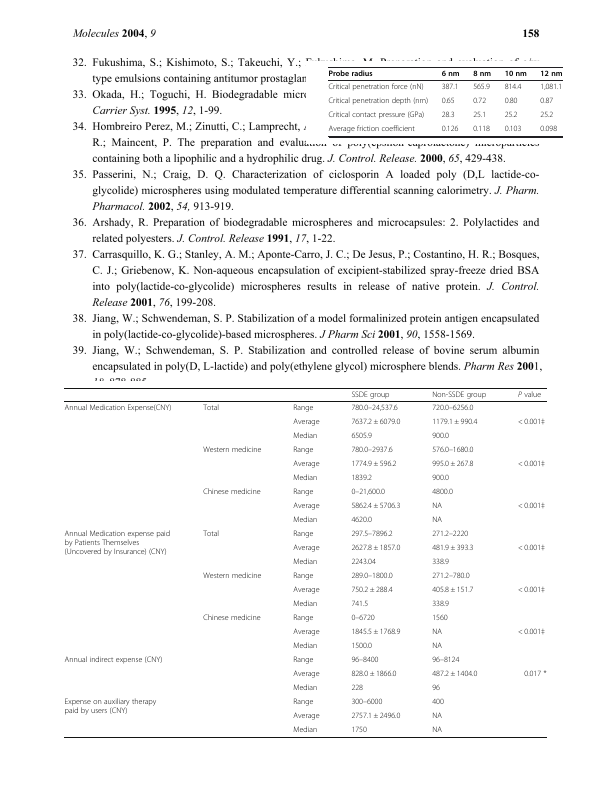borderless: (63, 386, 547, 737), (327, 66, 562, 136)
cell: (64, 529, 171, 557), (64, 697, 157, 716), (64, 403, 172, 413), (64, 655, 163, 665), (328, 97, 429, 106), (328, 111, 425, 120), (328, 83, 424, 92), (328, 125, 416, 134), (202, 445, 262, 455), (202, 571, 262, 581), (202, 487, 261, 497), (202, 613, 261, 623), (350, 417, 401, 427), (350, 501, 401, 511), (350, 543, 401, 553), (350, 627, 401, 637), (350, 711, 401, 721), (431, 390, 487, 399), (350, 403, 399, 413), (431, 417, 478, 427), (350, 459, 397, 469), (350, 669, 397, 679), (431, 669, 478, 679), (350, 585, 394, 595), (431, 403, 474, 413), (350, 445, 393, 455), (431, 445, 474, 455), (431, 459, 474, 469), (350, 529, 393, 539), (431, 543, 474, 553), (350, 571, 393, 581), (431, 585, 474, 595), (431, 571, 470, 581), (431, 529, 469, 539), (328, 70, 374, 78), (350, 390, 390, 399), (350, 487, 386, 497), (350, 697, 383, 707), (517, 417, 546, 427), (517, 459, 546, 469), (517, 501, 546, 511), (517, 543, 546, 553), (517, 585, 546, 595), (517, 627, 546, 637), (350, 655, 379, 665), (431, 655, 460, 665), (292, 417, 320, 427), (292, 459, 320, 469), (292, 501, 320, 511), (292, 543, 320, 553), (292, 585, 320, 595), (292, 627, 320, 637), (292, 669, 320, 679), (292, 711, 320, 721), (350, 557, 377, 567), (292, 431, 318, 441), (292, 473, 318, 483), (292, 515, 318, 525), (292, 557, 318, 567), (292, 599, 318, 609), (350, 613, 376, 623), (292, 641, 318, 651), (292, 683, 318, 693), (292, 725, 318, 735), (523, 669, 547, 679), (350, 431, 373, 441), (350, 473, 373, 483), (431, 487, 454, 497), (350, 515, 373, 525), (350, 641, 373, 651), (517, 390, 542, 399), (292, 403, 314, 413), (292, 445, 314, 455), (292, 487, 314, 497), (292, 529, 314, 539), (292, 571, 314, 581), (292, 613, 314, 623), (292, 655, 314, 665), (292, 697, 314, 707), (539, 83, 563, 92), (504, 70, 528, 78), (539, 70, 563, 78), (431, 431, 450, 441), (431, 473, 450, 483), (431, 557, 450, 567), (350, 599, 369, 609), (431, 599, 450, 609), (202, 403, 220, 413), (202, 529, 220, 539), (431, 613, 449, 623), (350, 725, 368, 735), (472, 83, 491, 92), (472, 125, 491, 134), (539, 125, 558, 134), (441, 83, 459, 92), (504, 83, 522, 92), (441, 125, 459, 134), (504, 125, 522, 134), (472, 70, 492, 78), (441, 70, 460, 78), (350, 683, 364, 693), (431, 697, 445, 707), (472, 97, 487, 106), (539, 97, 554, 106), (472, 111, 487, 120), (539, 111, 554, 120), (441, 97, 455, 106), (504, 97, 518, 106), (441, 111, 455, 120), (504, 111, 518, 120), (431, 501, 443, 511), (431, 515, 443, 525), (431, 627, 443, 637), (431, 641, 443, 651), (431, 711, 443, 721), (431, 725, 443, 735), (431, 683, 441, 693)
